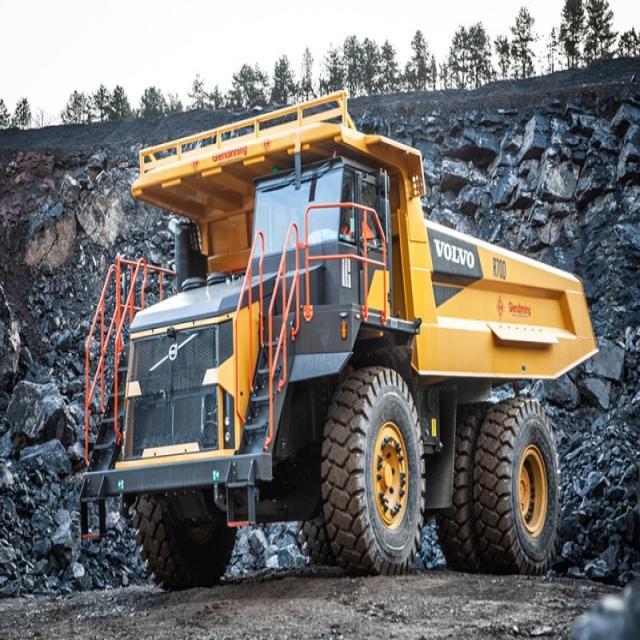dump_truck: (76, 98, 598, 590)
